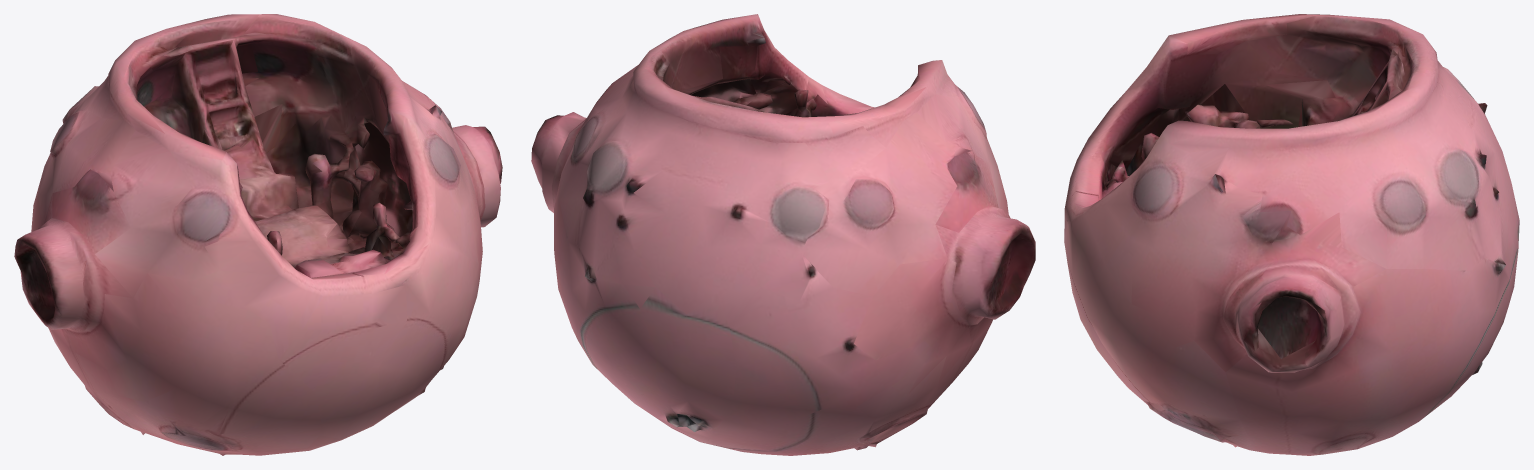
The model's file is cabine_chirimecha.glb.
The picture shows the model from 3 angles, left to right: view 1: azimuth 30°, elevation 25°; view 2: azimuth 150°, elevation 25°; view 3: azimuth 270°, elevation 25°; orthographic projection.
Parts seen in each view (by area): view 1: cabine; view 2: cabine; view 3: cabine.
Part boxes in pixels (<box>): cabine: <box>14,14,502,455</box>; cabine: <box>531,14,1035,455</box>; cabine: <box>1064,14,1519,455</box>.
Size of the model in its own units: 1.96 by 1.48 by 1.65.
Materials: 1 (1 with a texture image).
